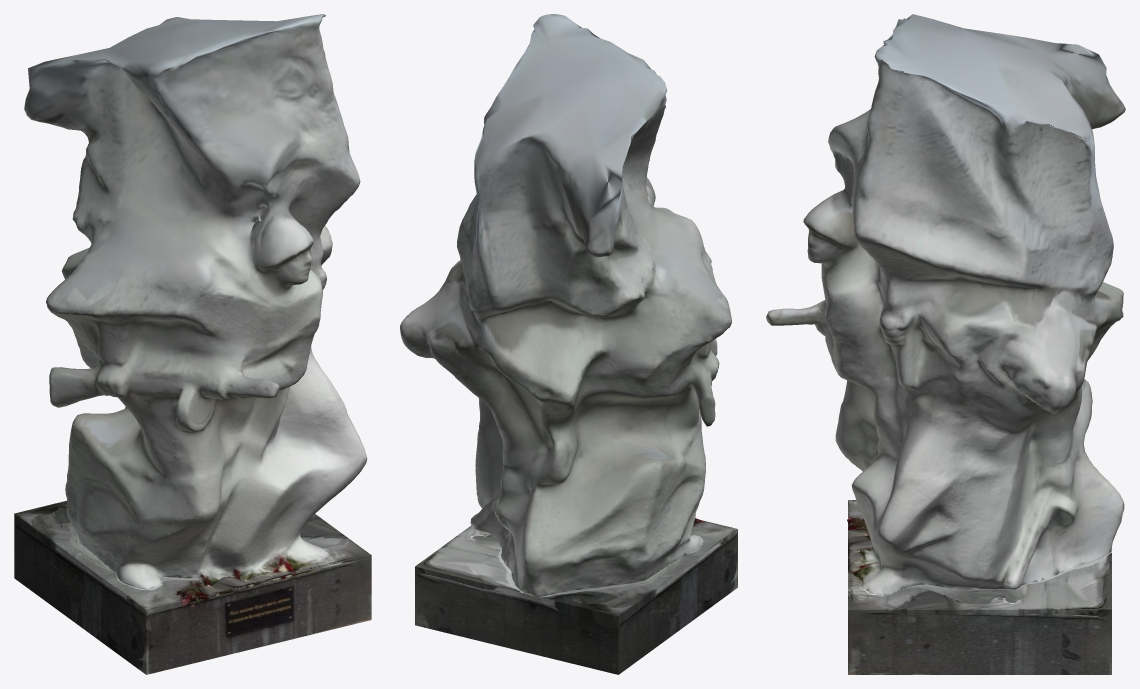
The model's file is sculpture-scan-v15.glb.
The picture shows the model from 3 angles, left to right: view 1: azimuth 30°, elevation 25°; view 2: azimuth 150°, elevation 25°; view 3: azimuth 270°, elevation 25°; orthographic projection. The views are drawn at different scales.
Visible parts, largest first — view 1: Memorial recovered from IMG_6142.MOV — cleaned source geomet; view 2: Memorial recovered from IMG_6142.MOV — cleaned source geomet; view 3: Memorial recovered from IMG_6142.MOV — cleaned source geomet.
Boxes of the visible parts, x1=… form: Memorial recovered from IMG_6142.MOV — cleaned source geomet: x1=14, y1=14, x2=371, y2=674; Memorial recovered from IMG_6142.MOV — cleaned source geomet: x1=400, y1=14, x2=737, y2=674; Memorial recovered from IMG_6142.MOV — cleaned source geomet: x1=766, y1=14, x2=1125, y2=674.
Size of the model in its own units: 3.69 by 6.8 by 3.69.
Materials: 2 (2 with a texture image).
